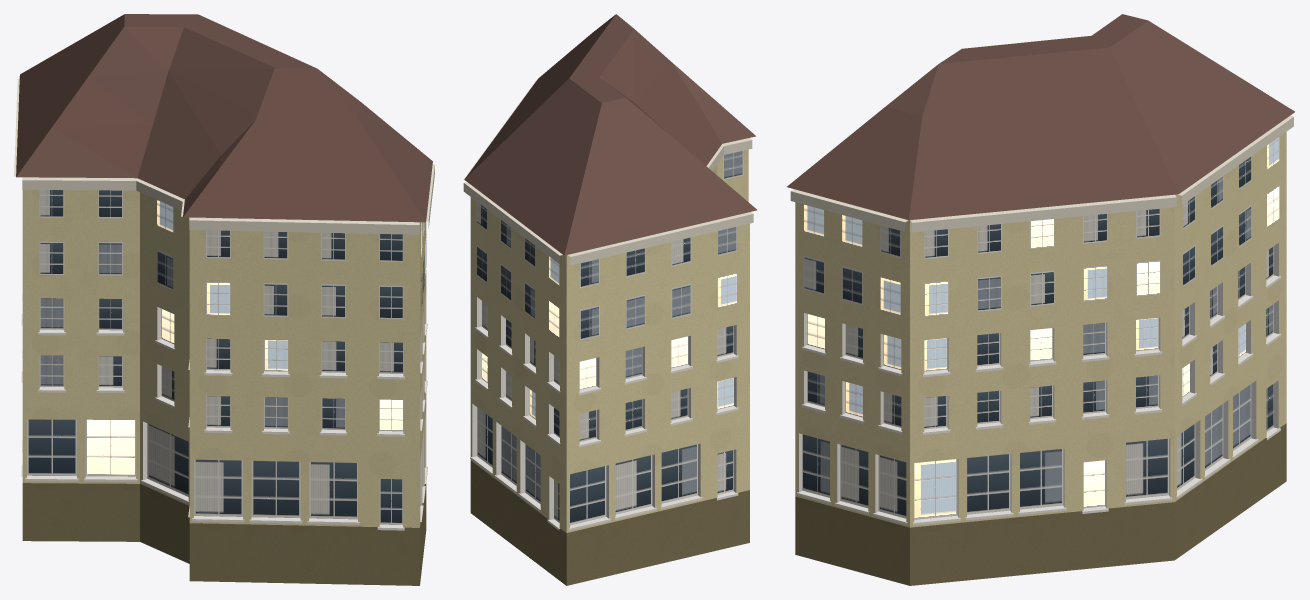
3 renders of one model, left to right at view 1: azimuth 30°, elevation 25°; view 2: azimuth 150°, elevation 25°; view 3: azimuth 270°, elevation 25°, orthographic. The views are drawn at different scales.
Parts seen in each view (by area): view 1: z3c_hb_sw1; view 2: z3c_hb_sw1; view 3: z3c_hb_sw1.
Boxes of the visible parts, left/top/right/bottom form: z3c_hb_sw1: left=14, top=14, right=434, bottom=585; z3c_hb_sw1: left=463, top=14, right=757, bottom=585; z3c_hb_sw1: left=787, top=14, right=1294, bottom=585.
Size of the model in its own units: 17.89 by 24.46 by 23.73.
3 materials, 3 textured.
